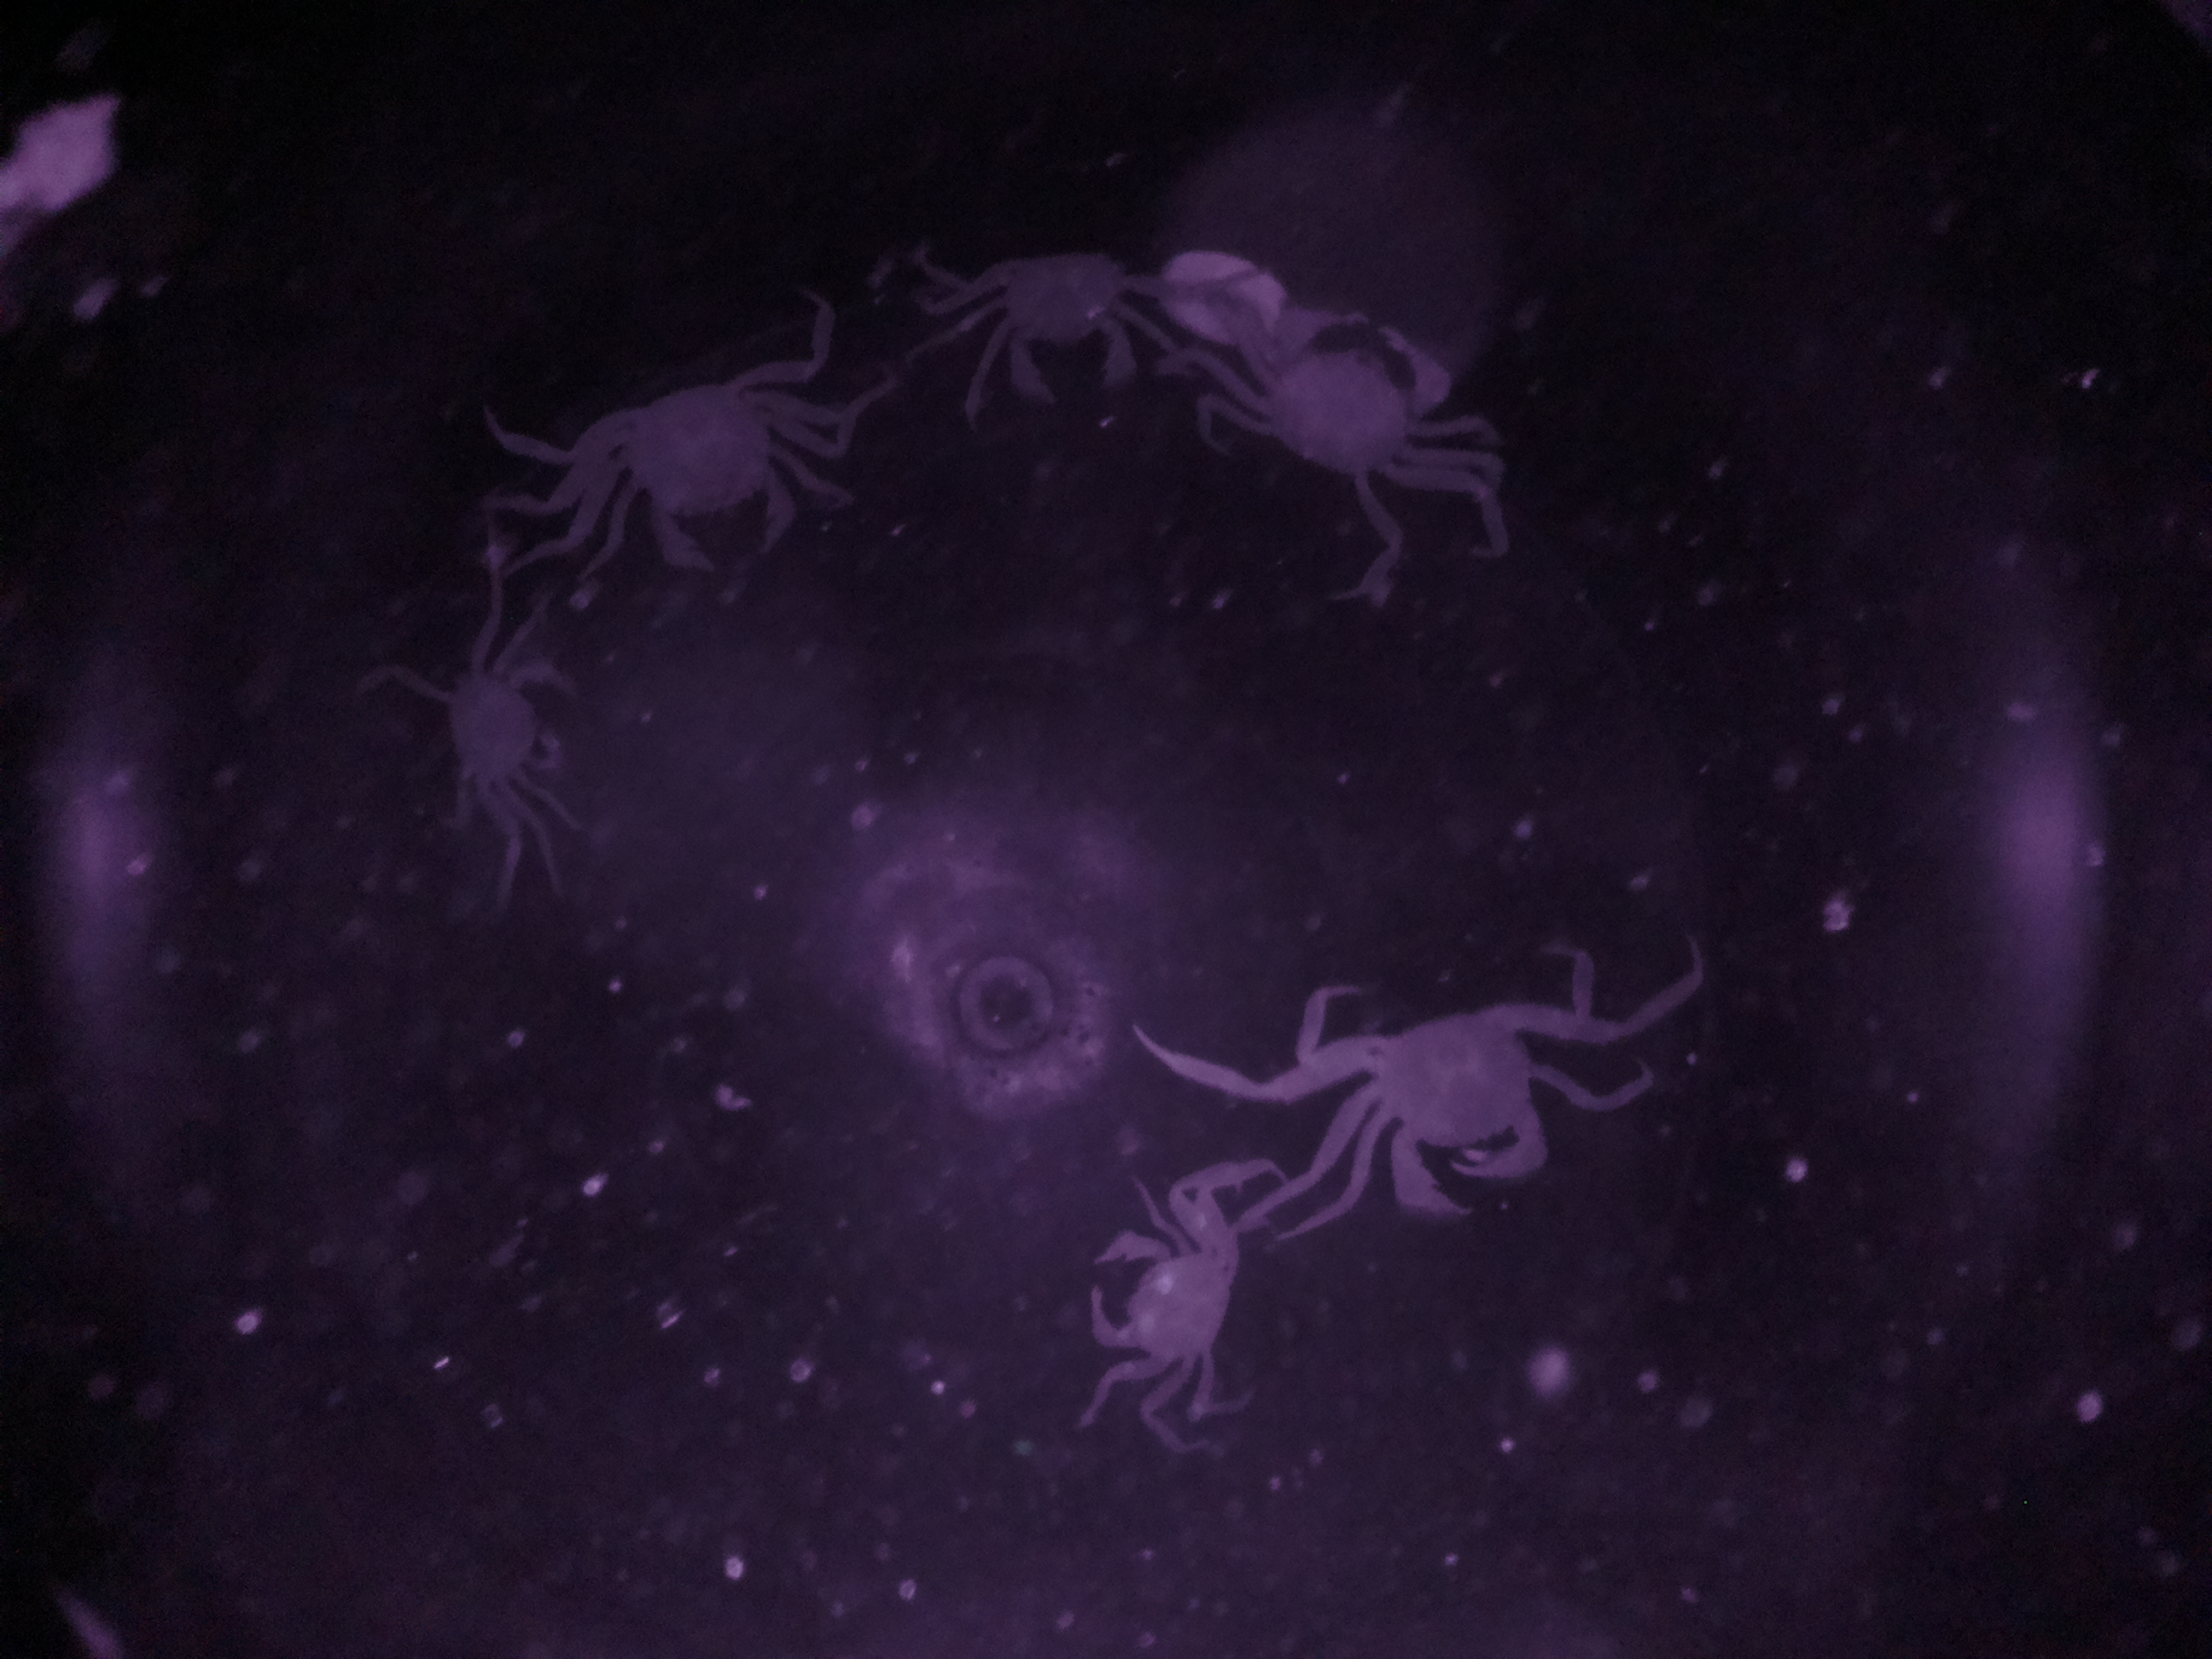Crab: (1282, 955, 1615, 1232), (550, 352, 895, 603), (1202, 291, 1479, 497), (939, 237, 1190, 425), (1069, 1166, 1266, 1403), (415, 608, 608, 838)
